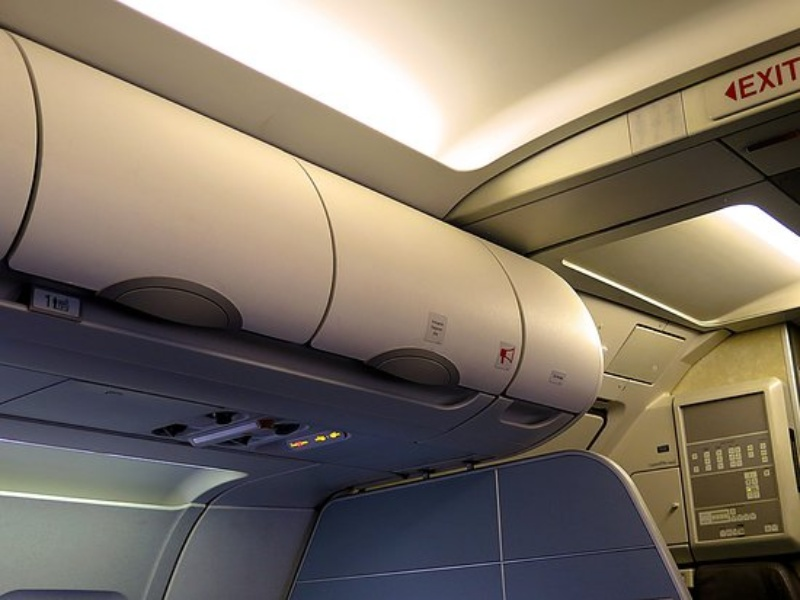close_bin: (12, 26, 342, 376), (296, 130, 526, 407), (483, 224, 607, 427)
